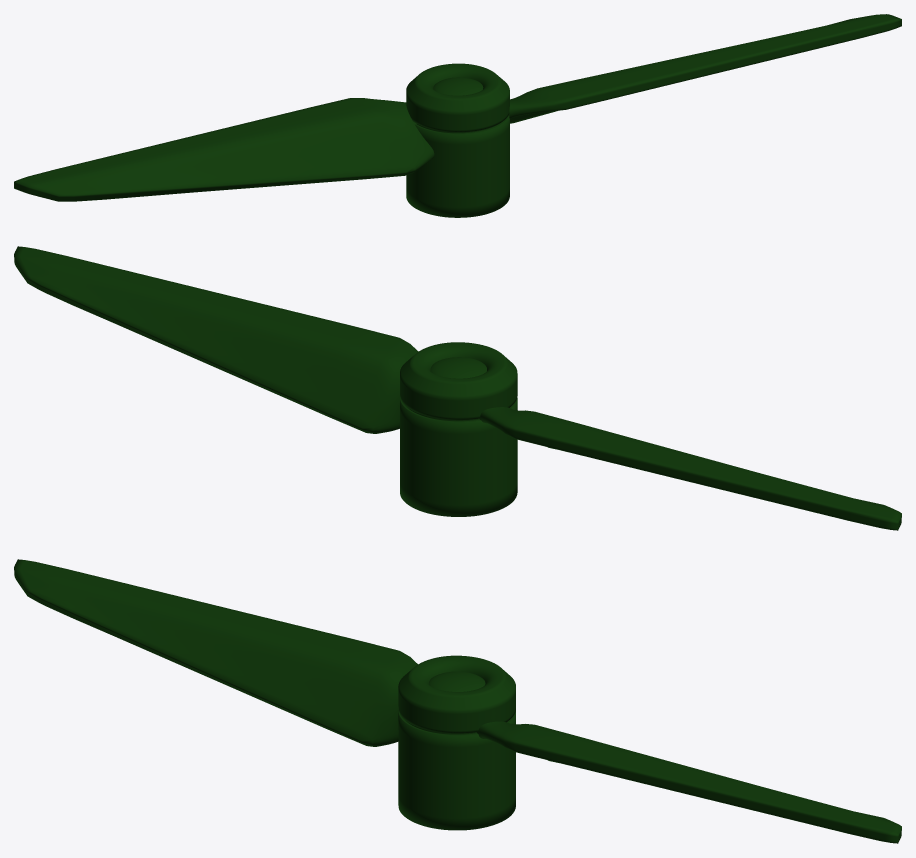
The model's file is propellor_03_green.91e6fbbf.glb.
3 renders of one model, top to bottom at view 1: azimuth 30°, elevation 25°; view 2: azimuth 150°, elevation 25°; view 3: azimuth 330°, elevation 25°, orthographic. The views are drawn at different scales.
Parts seen in each view (by area): view 1: GEO_Propeller_03; view 2: GEO_Propeller_03; view 3: GEO_Propeller_03.
Boxes of the visible parts, bbox=[...] form: GEO_Propeller_03: bbox=[14, 14, 901, 217]; GEO_Propeller_03: bbox=[14, 246, 901, 530]; GEO_Propeller_03: bbox=[14, 559, 901, 843].
Size of the model in its own units: 4.61 by 0.6106 by 0.5583.
